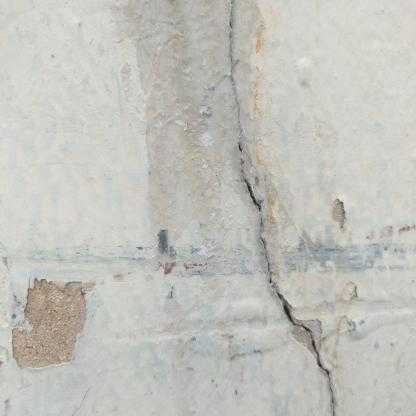crack: (279, 294, 335, 413), (246, 179, 262, 210)
